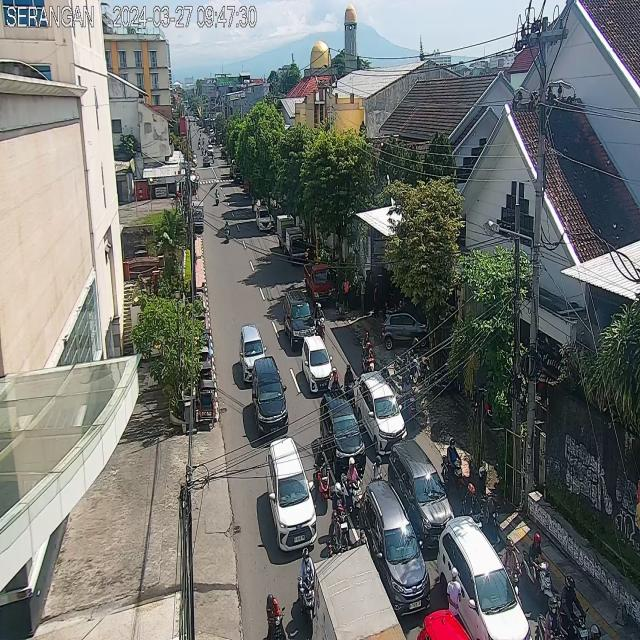car: (437, 518, 533, 640), (359, 481, 432, 614), (388, 442, 456, 545), (266, 437, 317, 551), (357, 373, 408, 456), (320, 392, 366, 476), (252, 356, 289, 437), (284, 289, 316, 348), (302, 336, 333, 394), (240, 323, 266, 384), (256, 205, 271, 232), (208, 145, 215, 156), (203, 157, 210, 167), (201, 146, 204, 156)
motorcycle: (521, 532, 554, 608), (555, 574, 591, 640), (297, 546, 319, 635), (441, 438, 468, 504), (475, 466, 499, 540), (342, 457, 366, 528), (534, 596, 564, 640), (501, 536, 521, 599), (314, 441, 331, 513), (333, 482, 350, 553), (461, 482, 483, 536), (266, 593, 287, 640), (400, 372, 416, 430), (328, 510, 342, 560), (361, 330, 376, 374), (371, 454, 387, 494), (344, 364, 357, 409), (314, 301, 327, 342), (328, 366, 343, 400), (224, 218, 230, 243), (214, 188, 220, 205), (212, 152, 216, 164)
truck: (311, 546, 410, 640), (303, 261, 334, 310), (286, 227, 306, 266), (277, 214, 294, 247)
